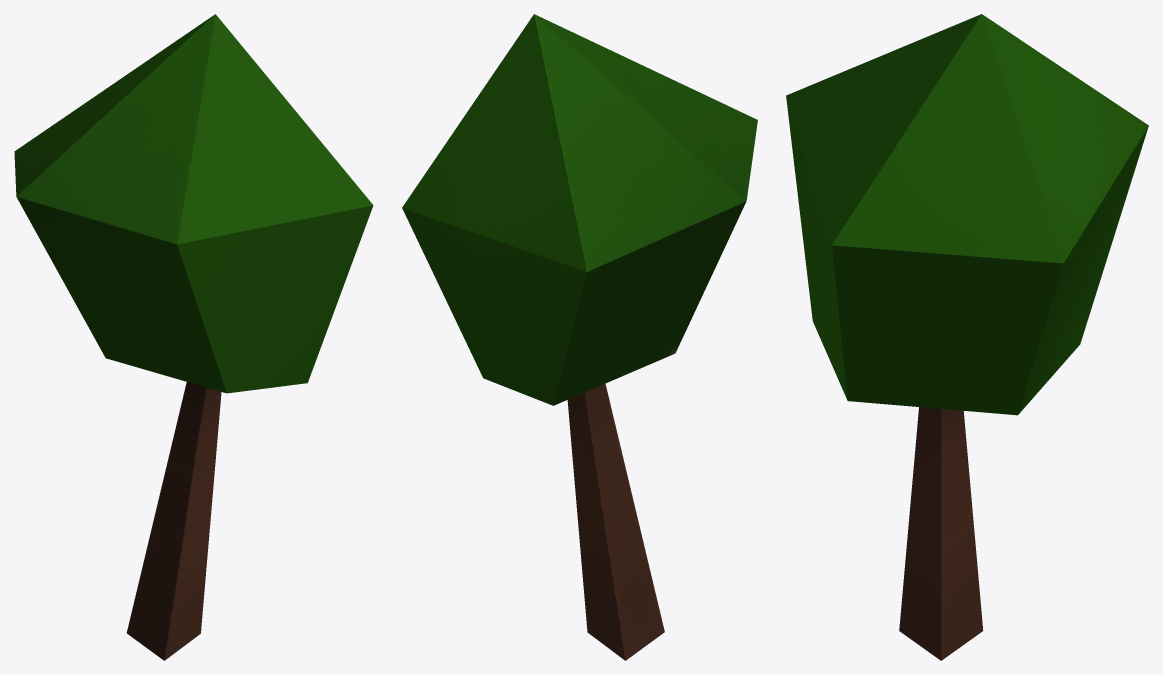
The model's file is Leave_tree_C5_03.FBX.
3 renders of one model, left to right at view 1: azimuth 30°, elevation 25°; view 2: azimuth 150°, elevation 25°; view 3: azimuth 270°, elevation 25°, orthographic. The views are drawn at different scales.
Parts seen in each view (by area): view 1: Leave_tree_C5_03; view 2: Leave_tree_C5_03; view 3: Leave_tree_C5_03.
Part boxes in pixels (left/top/right/bottom): Leave_tree_C5_03: left=14, top=14, right=373, bottom=660; Leave_tree_C5_03: left=402, top=14, right=757, bottom=660; Leave_tree_C5_03: left=786, top=14, right=1148, bottom=660.
Size of the model in its own units: 14.79 by 14.32 by 28.95.
